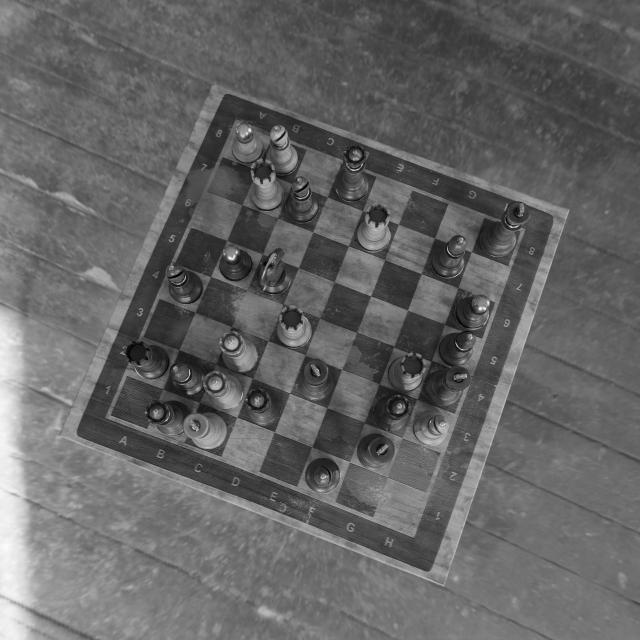chessboard: (108, 119, 521, 532)
